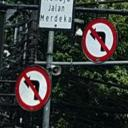NoVirarEsquerda: (13, 65, 53, 113), (80, 16, 118, 64)
